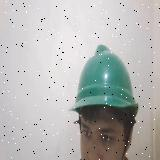Helmet: (68, 44, 138, 112)
